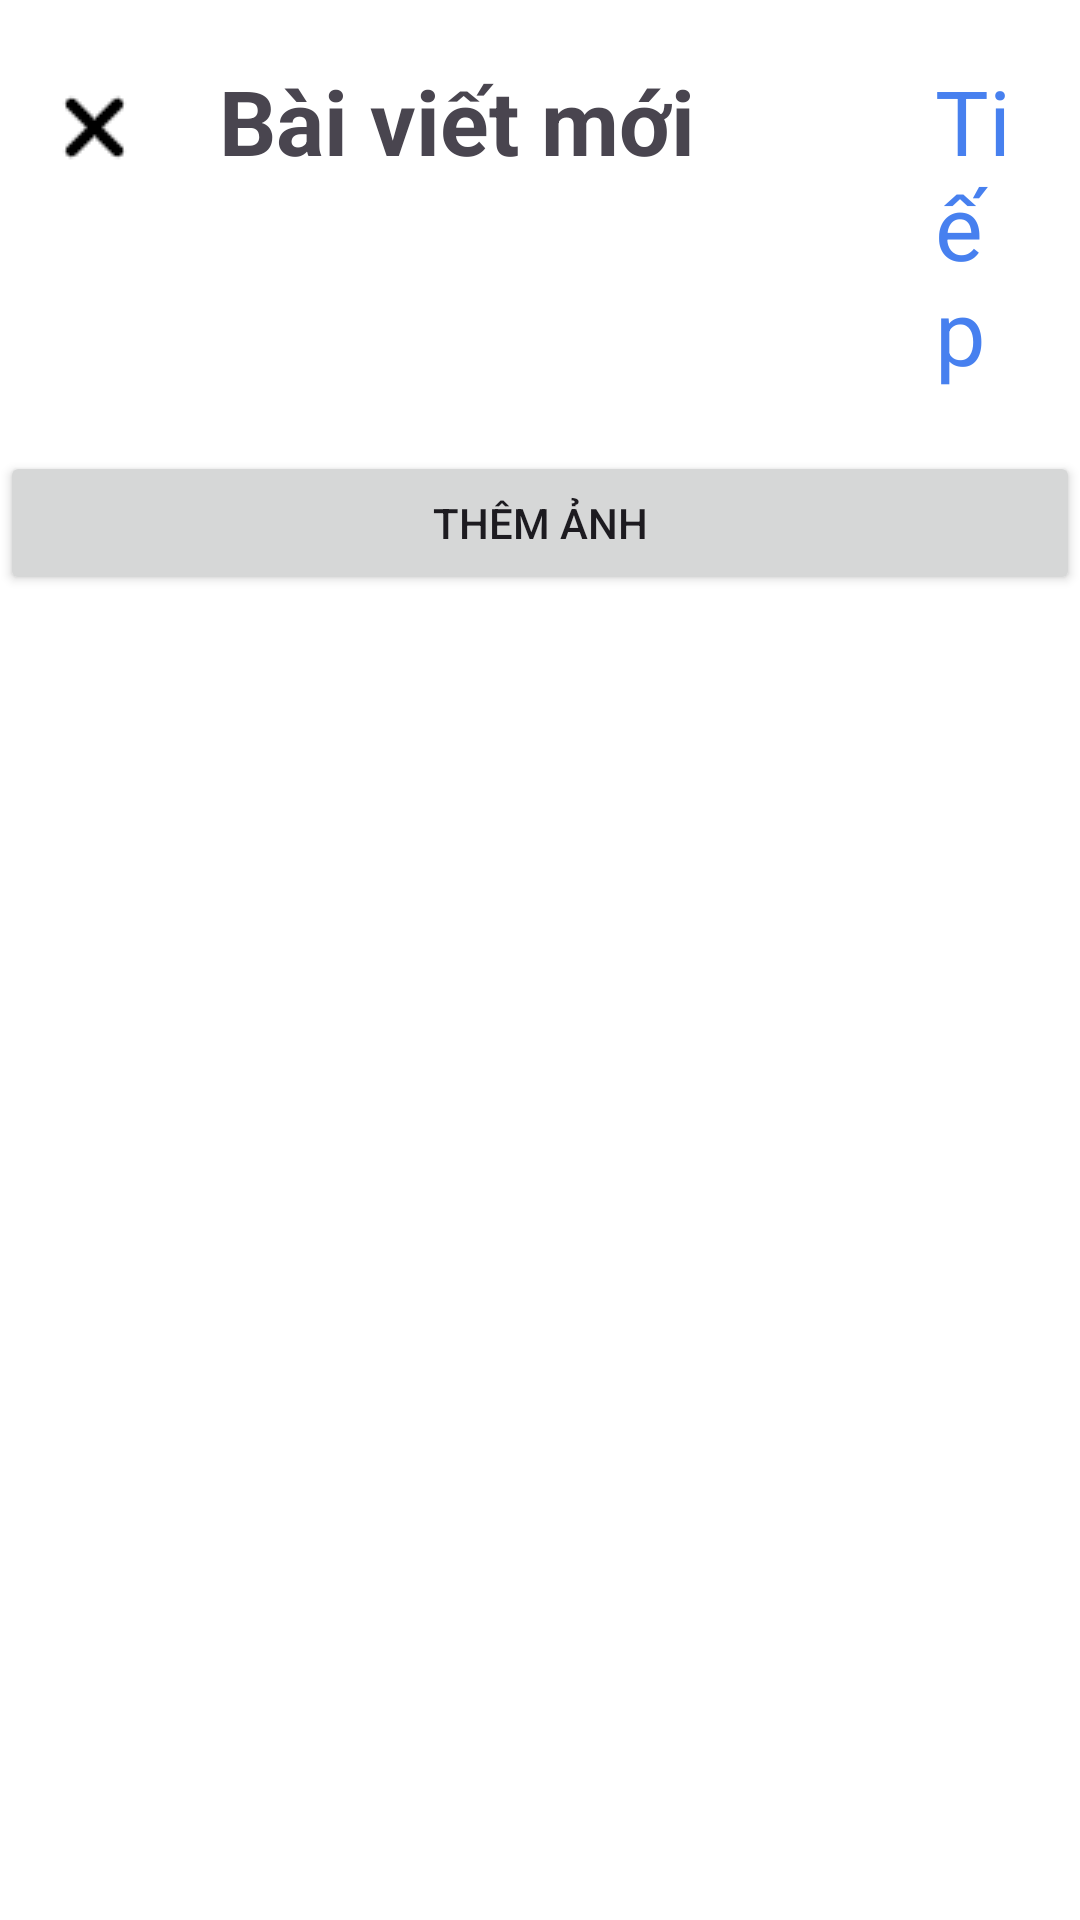

Locate icon controls on the screen. Image size 1080px x 1920px, boxes as (x1, y1, x2, y2).
xmark: (65, 96, 124, 159)
